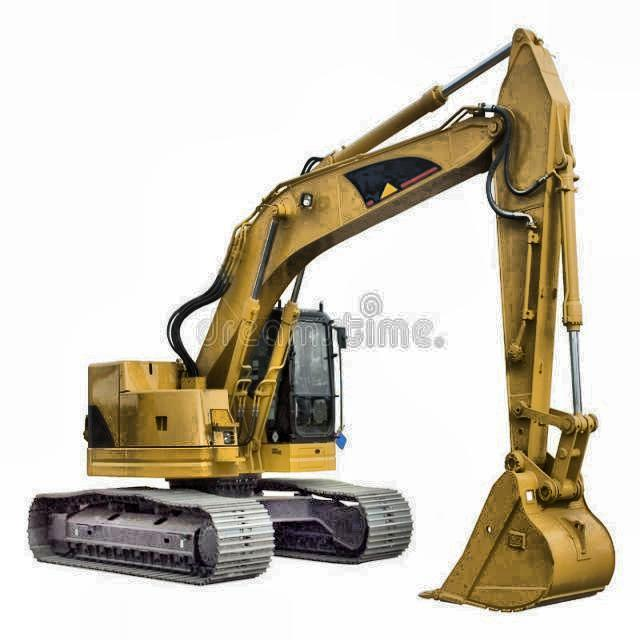excavator: (20, 23, 619, 612)
